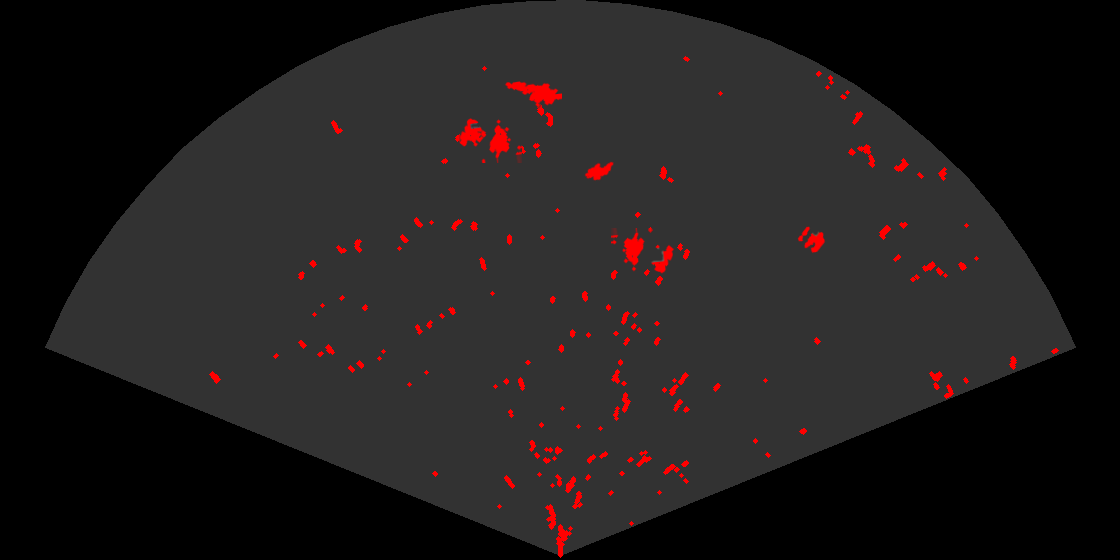AUV: (583, 160, 615, 182)
ball: (796, 225, 827, 255)
cage: (611, 228, 676, 275), (458, 117, 522, 163)
frogman: (504, 80, 562, 109)
